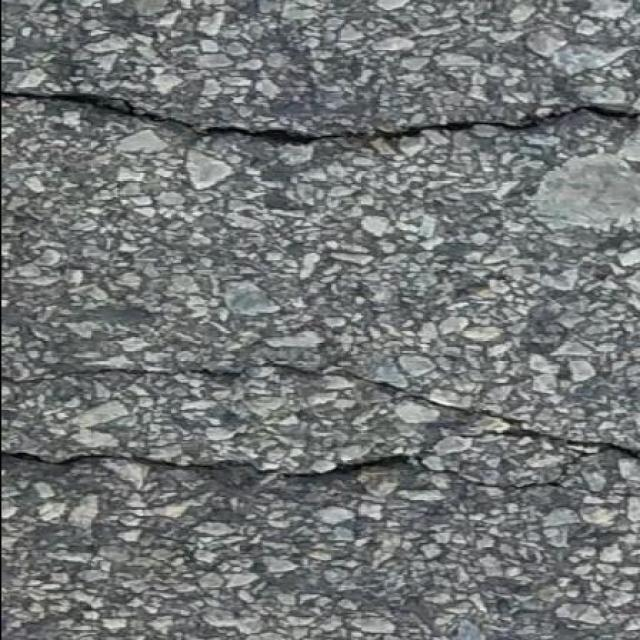Crack: (253, 359, 640, 489), (2, 92, 640, 145), (1, 450, 275, 472), (1, 365, 241, 385)
